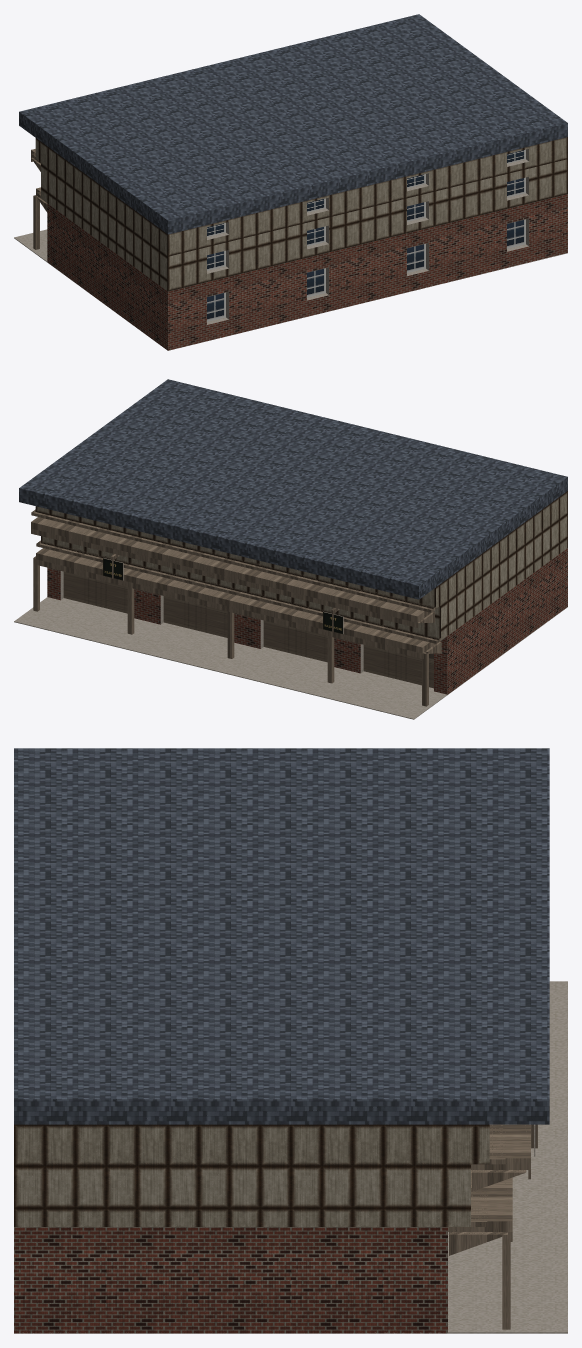
Rendered from bldg-row-shop.glb.
The picture shows the model from 3 angles, top to bottom: view 1: azimuth 30°, elevation 25°; view 2: azimuth 150°, elevation 25°; view 3: azimuth 270°, elevation 25°; orthographic projection. The views are drawn at different scales.
Visible parts, largest first — view 1: bldg-row-shop; view 2: bldg-row-shop; view 3: bldg-row-shop.
Part boxes in pixels (bbox=[...]): bldg-row-shop: bbox=[14, 14, 567, 350]; bldg-row-shop: bbox=[14, 379, 567, 719]; bldg-row-shop: bbox=[14, 748, 567, 1333].
Bounding box in the file's own units: 18 × 5.6 × 12.
8 materials, 8 textured.
